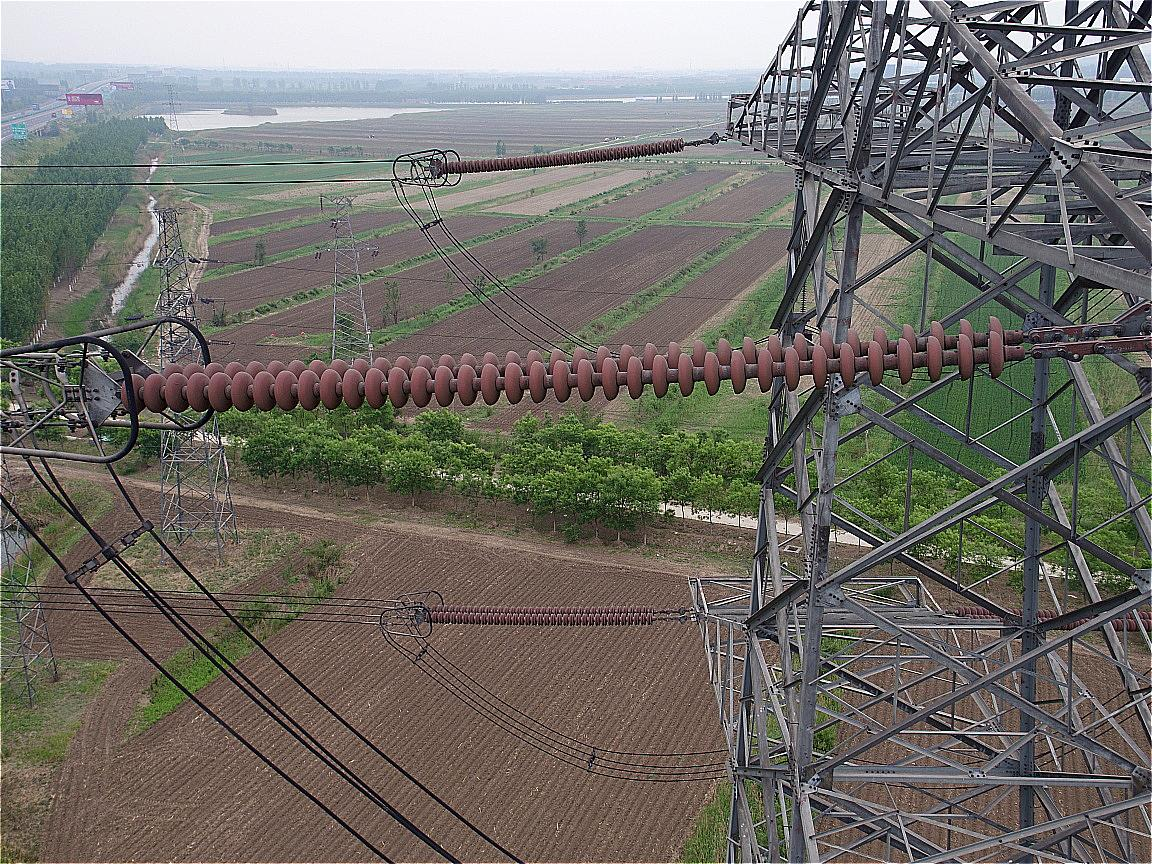insultor1: (119, 314, 1008, 410)
insultor2: (439, 136, 685, 177), (426, 602, 657, 628)
